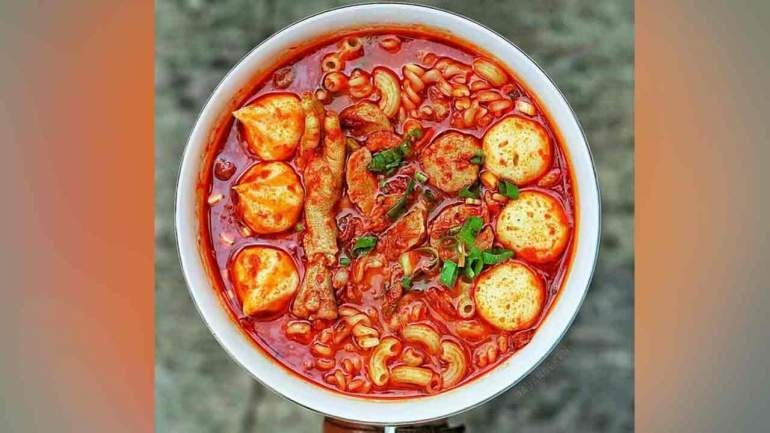seblak: (205, 27, 568, 395)
